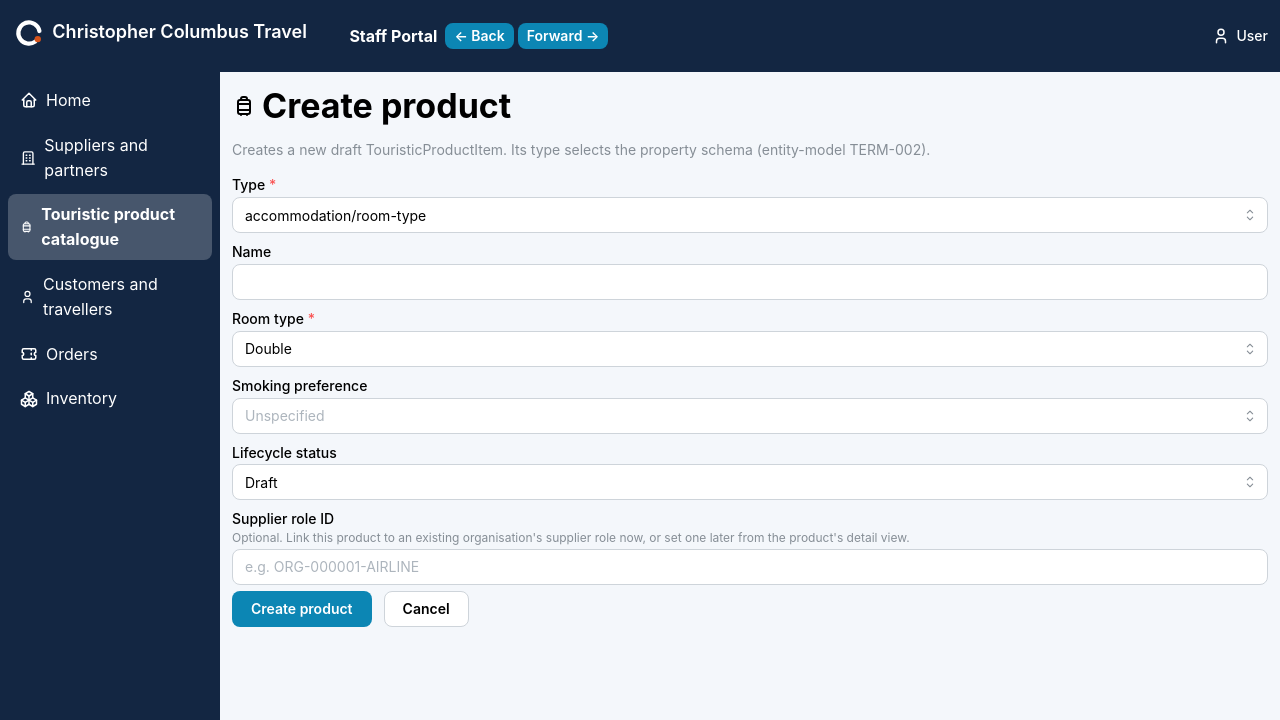
Test: ProductCreateRoute (VIEW-S-003 create flow, issue #31 phase 2) › requires flight-specific fields when the selected type is Flight
Step 1. Click the field labelled "Type *" → (750, 215), box [232,197,1268,233]
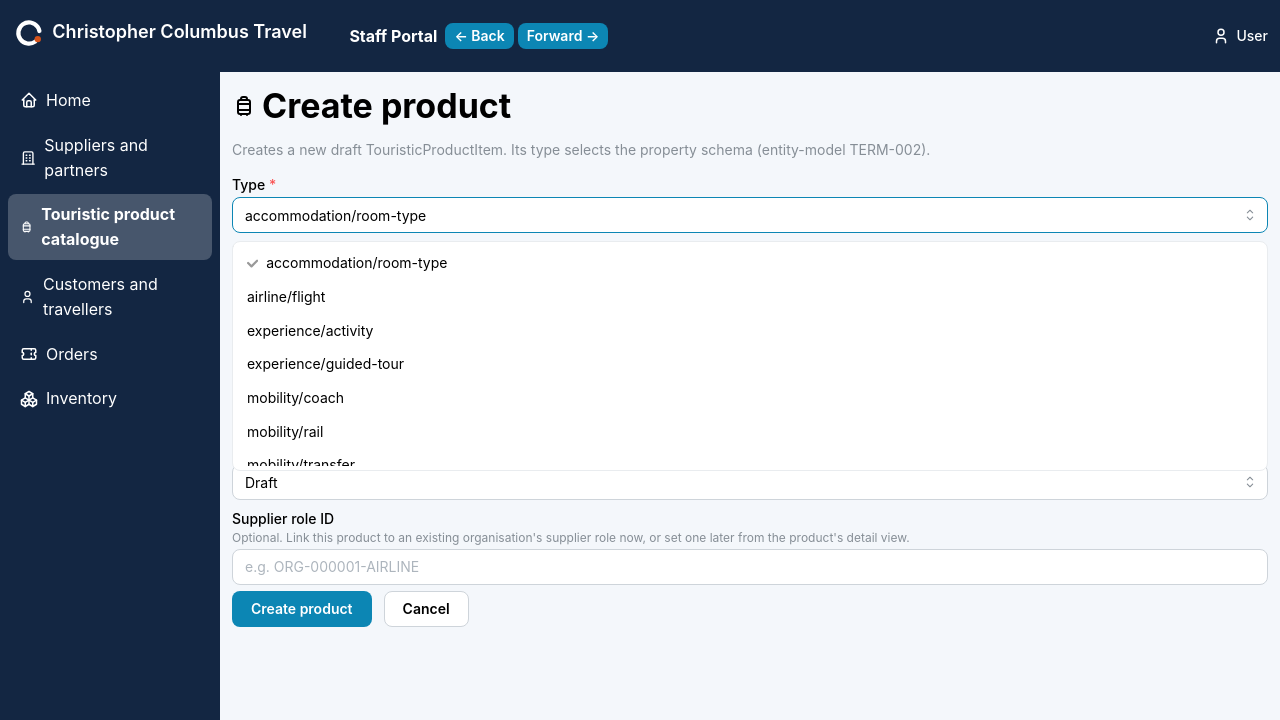
Step 2. Click the option "airline/flight" → (286, 296), box [247,288,325,305]
(page scrolled)
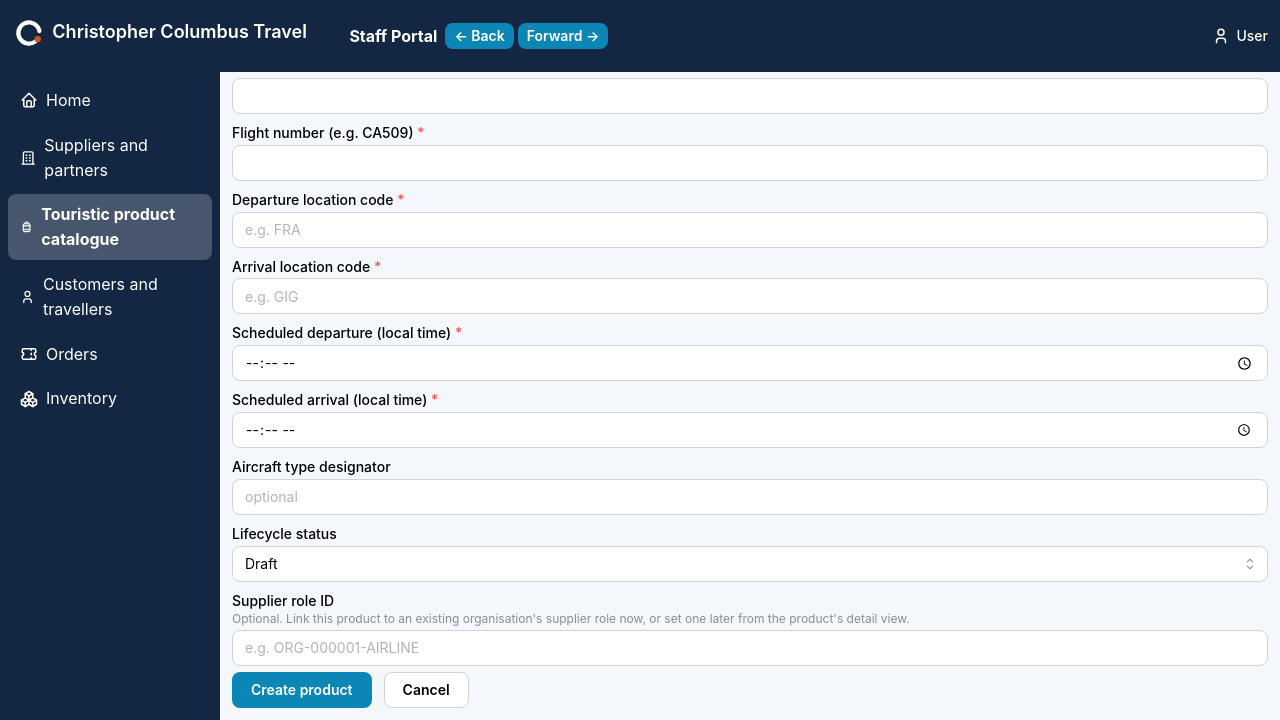
Step 3. Click the button "Create product" → (302, 690), box [232,672,372,708]
(page scrolled)
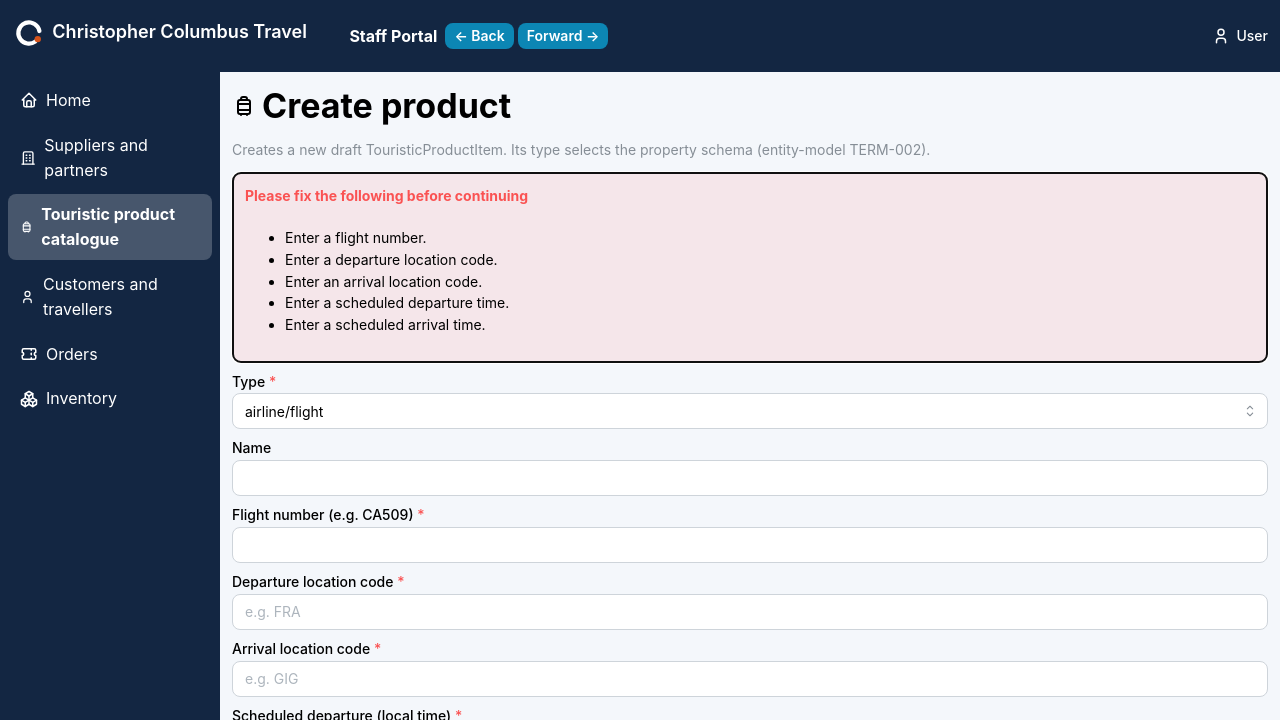
Check: the list item "Enter a flight number." is shown, box [285,229,427,246]
Check: the list item "Enter a departure location code." is shown, box [285,251,498,268]
